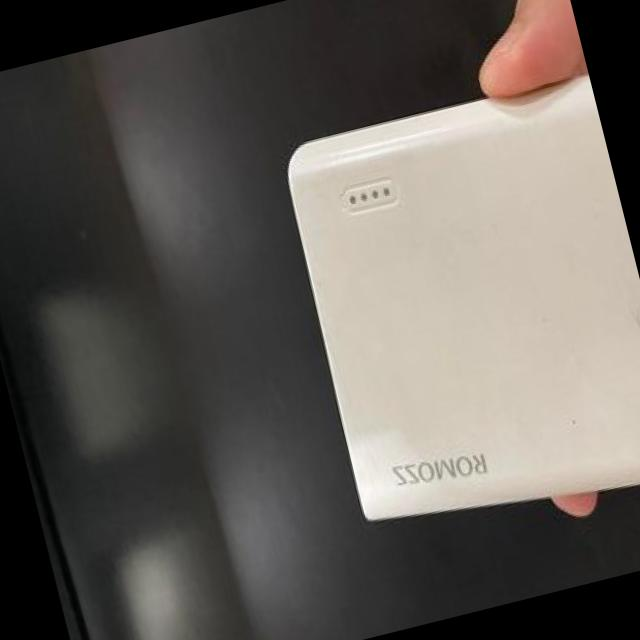power_bank: (263, 57, 640, 552)
